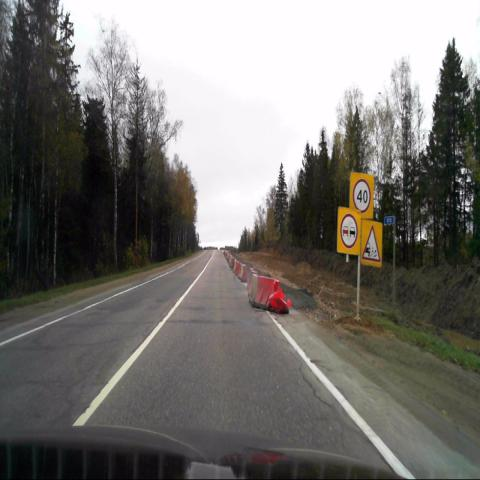1_18: (360, 220, 381, 266)
